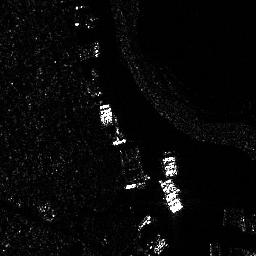ship: (138, 214, 151, 233)
